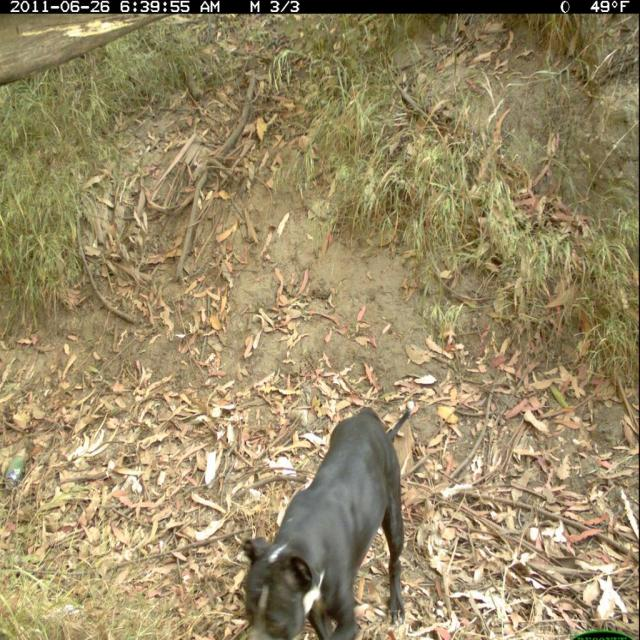dog: (221, 390, 430, 640)
